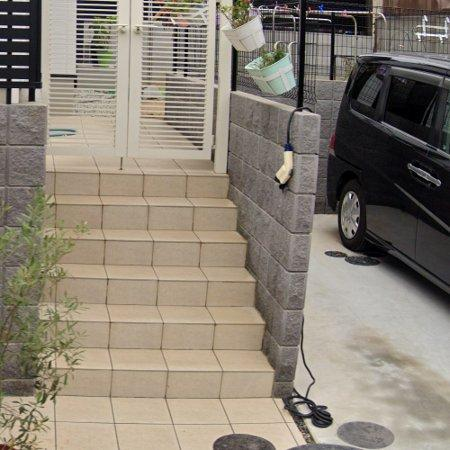stairs: (45, 155, 274, 399)
